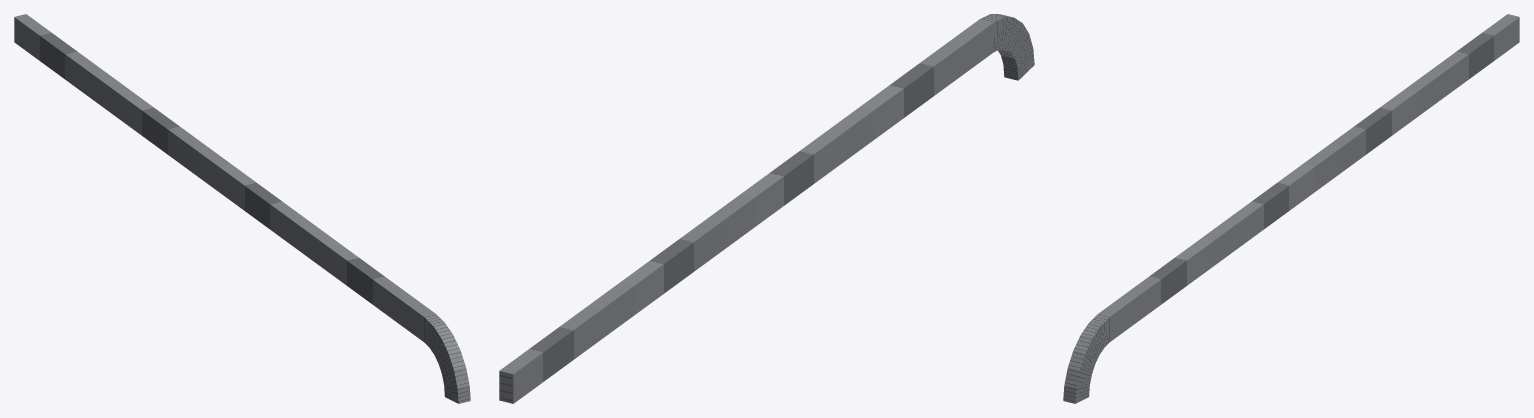
File: sectional_track_ccw_5.obj
3 renders of one model, left to right at view 1: azimuth 30°, elevation 25°; view 2: azimuth 150°, elevation 25°; view 3: azimuth 330°, elevation 25°, orthographic. The views are drawn at different scales.
Visible parts, largest first — view 1: track; view 2: track; view 3: track.
Boxes of the visible parts, box(x1,y1,x2,y2) form: track: box(14, 14, 470, 403); track: box(499, 14, 1034, 403); track: box(1063, 14, 1519, 403).
Bounding box in the file's own units: 0.0938 × 0.481 × 5.97.
